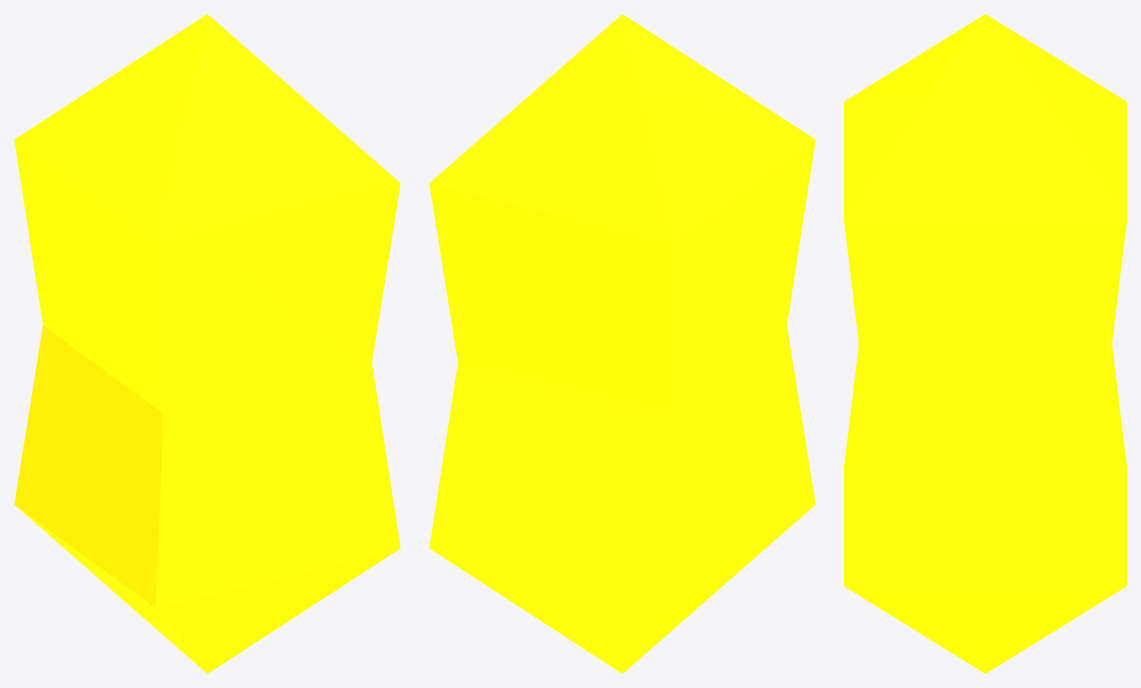
The model's file is Schlüssel3.fbx.
The picture shows the model from 3 angles, left to right: view 1: azimuth 30°, elevation 25°; view 2: azimuth 150°, elevation 25°; view 3: azimuth 270°, elevation 25°; orthographic projection.
Visible parts, largest first — view 1: Schlüssel2; view 2: Schlüssel2; view 3: Schlüssel2.
Part boxes in pixels (x1,y1,x2,y2): Schlüssel2: [14, 14, 400, 673]; Schlüssel2: [429, 14, 815, 673]; Schlüssel2: [844, 14, 1126, 673].
Bounding box in the file's own units: 50.97 × 131 × 50.97.
